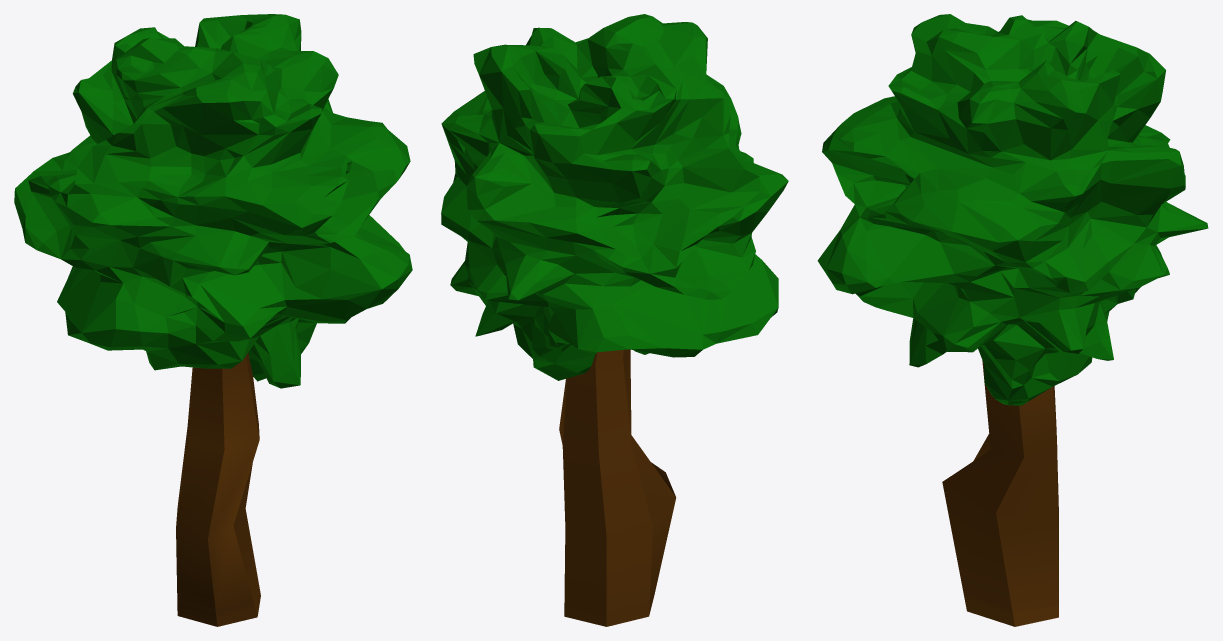
File: Tree2.fbx
The picture shows the model from 3 angles, left to right: view 1: azimuth 30°, elevation 25°; view 2: azimuth 150°, elevation 25°; view 3: azimuth 270°, elevation 25°; orthographic projection.
Parts seen in each view (by area): view 1: pCube2, pCylinder2; view 2: pCube2, pCylinder2; view 3: pCube2, pCylinder2.
Part boxes in pixels (x1,y1,x2,y2): pCube2: (14,14,412,388); pCylinder2: (176,353,260,626); pCube2: (441,14,788,380); pCylinder2: (559,349,676,626); pCube2: (817,14,1208,405); pCylinder2: (942,360,1058,626).
Size of the model in its own units: 7.64 by 12.82 by 7.91.
